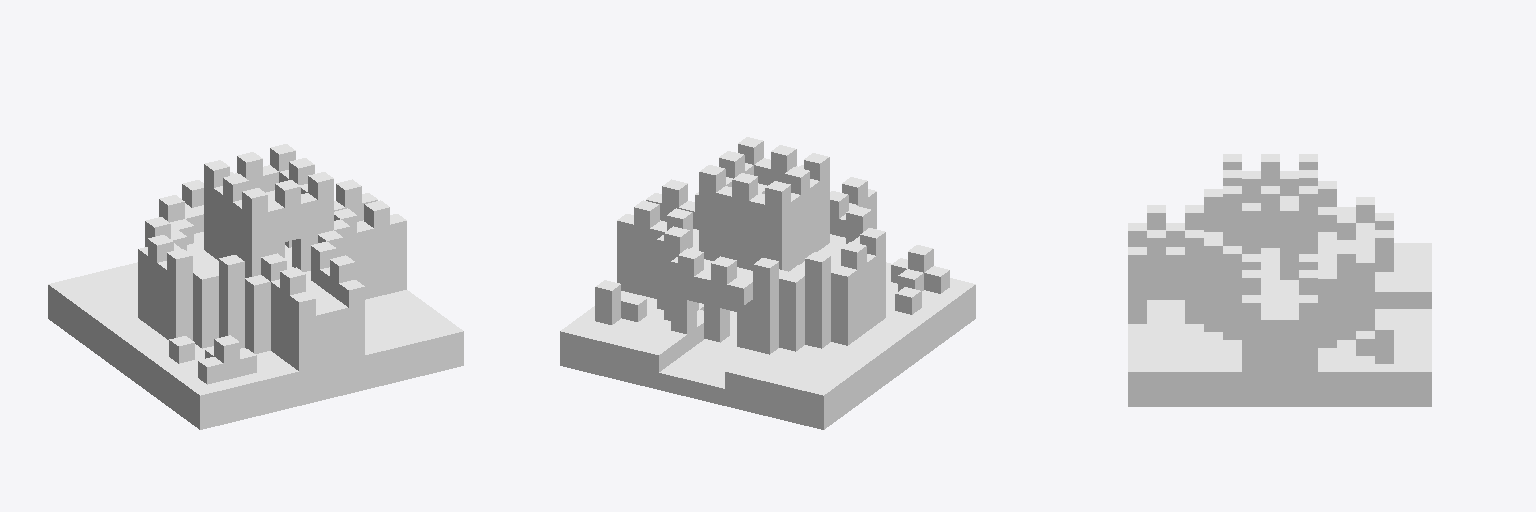
Rendered from Castle_river_1.obj.
3 views of the same model, side by side, from view 1: azimuth 30°, elevation 25°; view 2: azimuth 150°, elevation 25°; view 3: azimuth 270°, elevation 25° (orthographic).
Visible parts, largest first — view 1: object 1; view 2: object 1; view 3: object 1.
Boxes of the visible parts, box(x1,y1,x2,y2) form: object 1: box(48, 144, 463, 429); object 1: box(560, 137, 975, 429); object 1: box(1128, 154, 1431, 406).
Bounding box in the file's own units: 1.6 × 1 × 1.6.